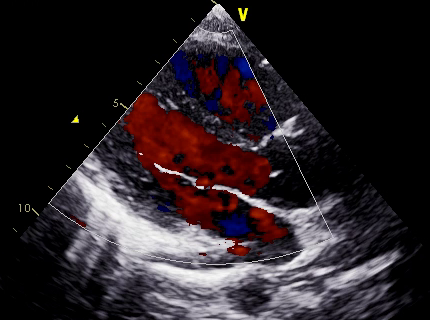AR: (174, 125, 276, 195)
